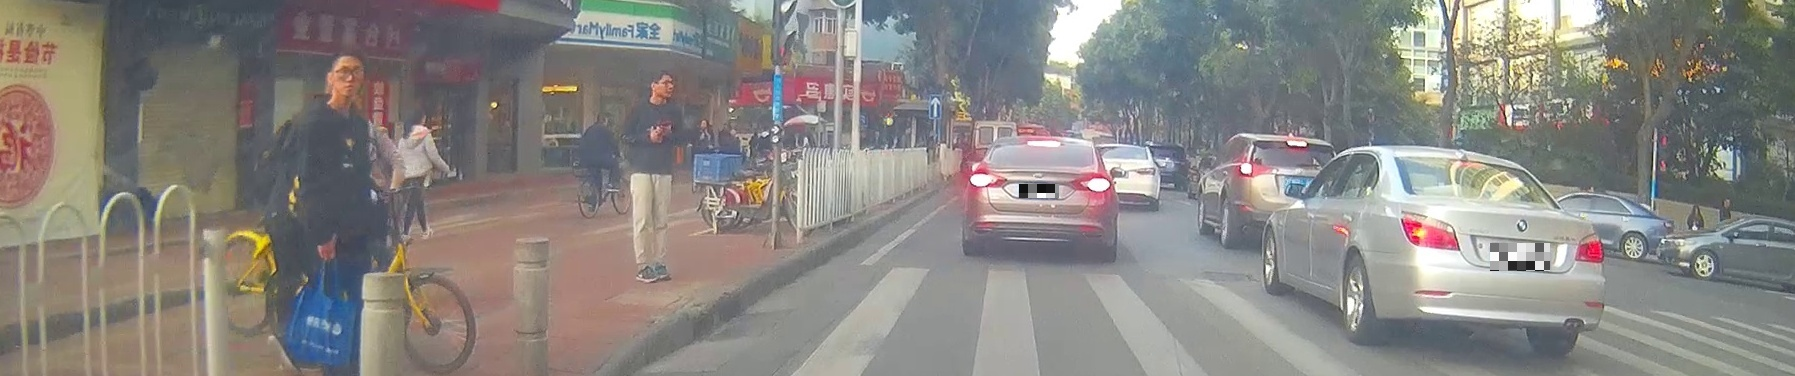L_light: (1399, 210, 1461, 251), (968, 170, 1009, 189)
R_light: (1574, 232, 1605, 263), (1072, 175, 1112, 191)
T_light: (1450, 160, 1488, 169), (1027, 140, 1061, 148)
day-brake: (1381, 146, 1606, 355), (960, 135, 1117, 263)
plate_1: (1019, 185, 1059, 198)
plate_2: (1490, 243, 1550, 271)
